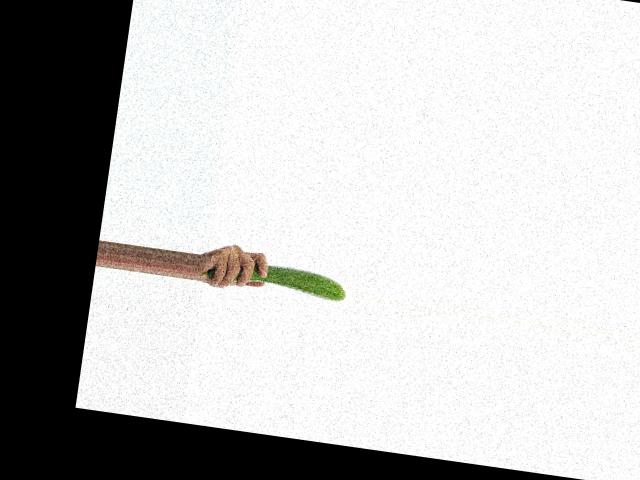cucumber: (201, 255, 349, 303)
